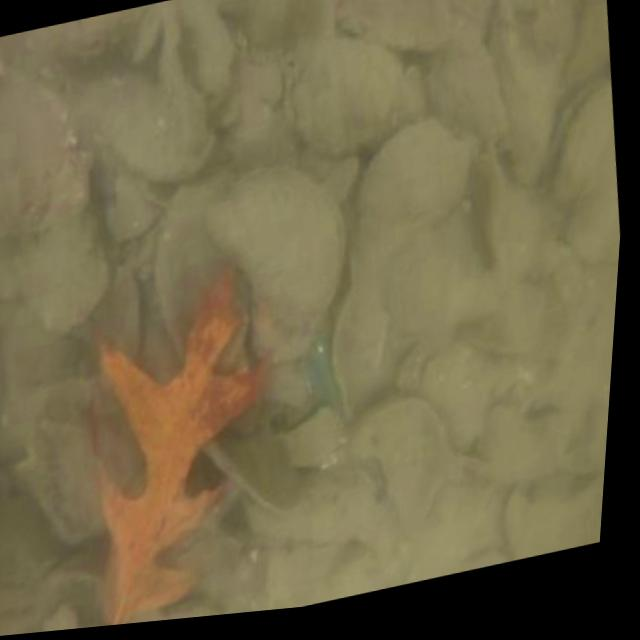Oyster-Closed: (544, 74, 612, 209)
Oyster-Indeterminate: (204, 158, 347, 368), (351, 389, 488, 538), (26, 377, 147, 543), (23, 151, 105, 330), (294, 38, 420, 154), (98, 74, 218, 179), (358, 121, 466, 228), (246, 461, 379, 542), (427, 11, 507, 141), (489, 18, 551, 182), (394, 341, 489, 446), (406, 486, 507, 582), (203, 422, 300, 510), (503, 474, 604, 558), (334, 260, 386, 418), (481, 404, 569, 477), (204, 0, 306, 44), (565, 0, 608, 92), (572, 187, 618, 261)
